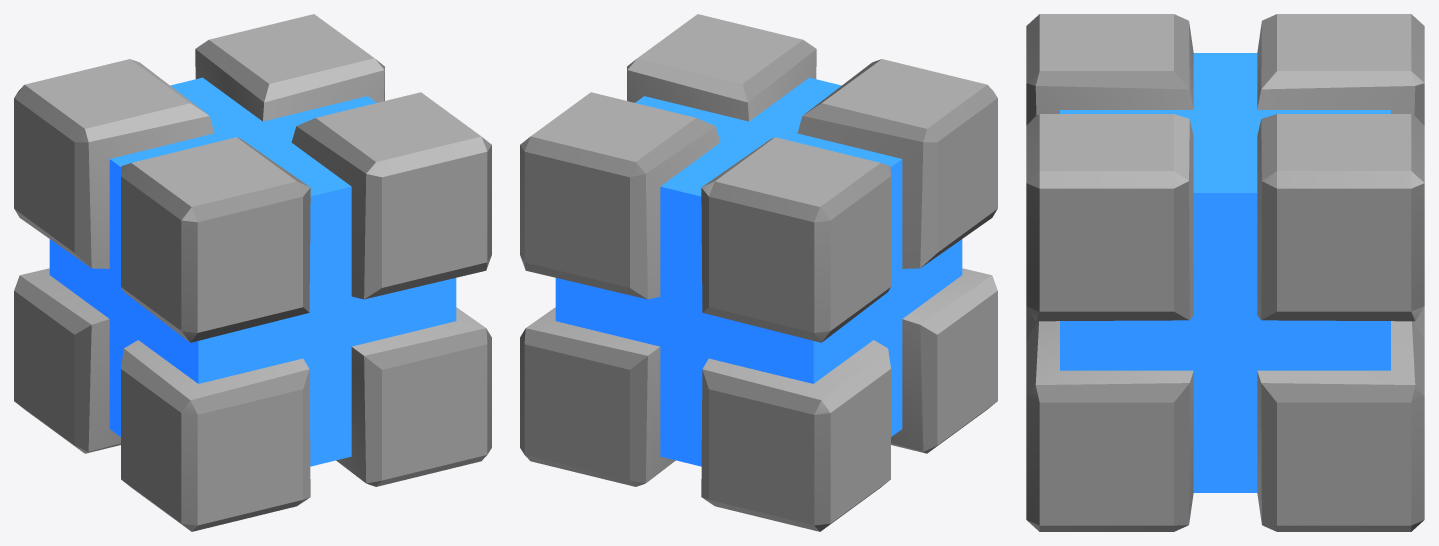
Rendered from Barrier.fbx.
3 renders of one model, left to right at view 1: azimuth 30°, elevation 25°; view 2: azimuth 150°, elevation 25°; view 3: azimuth 270°, elevation 25°, orthographic. The views are drawn at different scales.
Parts seen in each view (by area): view 1: Box001; view 2: Box001; view 3: Box001.
Part boxes in pixels (left/top/right/bottom): Box001: left=14, top=14, right=491, bottom=531; Box001: left=520, top=14, right=997, bottom=531; Box001: left=1026, top=14, right=1424, bottom=531.
Size of the model in its own units: 150 by 150 by 150.
